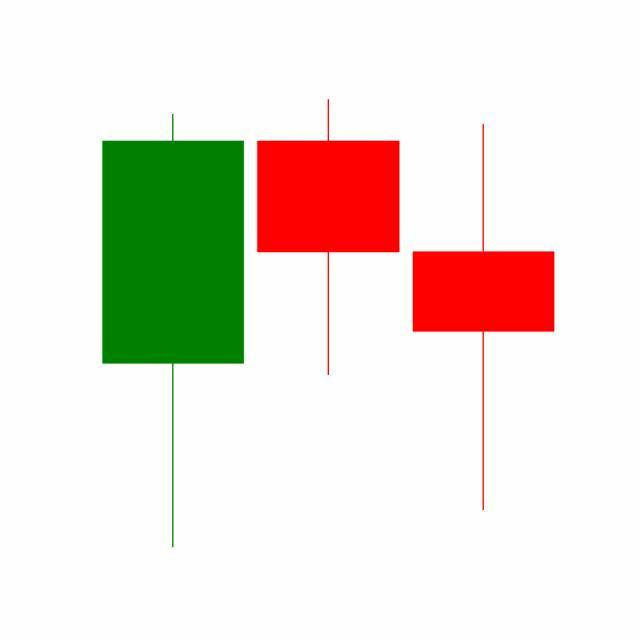Spinning Top: (406, 120, 562, 515)
